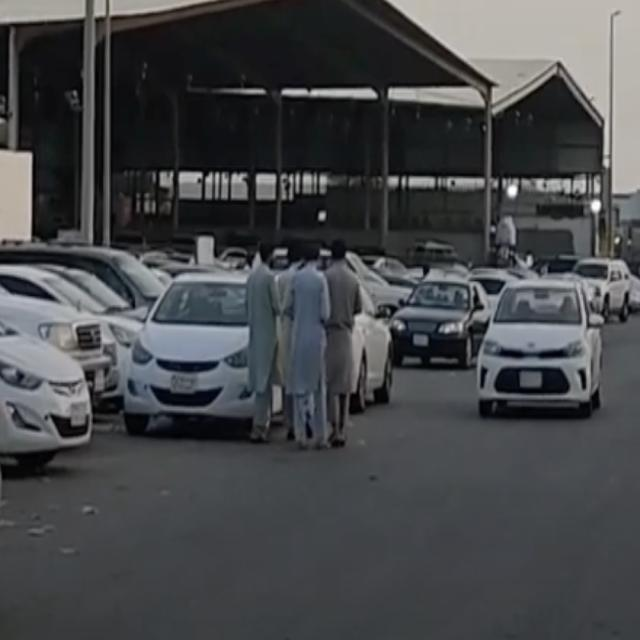license_plate: (170, 375, 197, 394), (71, 398, 87, 429), (518, 372, 543, 389), (94, 368, 106, 392), (412, 334, 428, 346)
